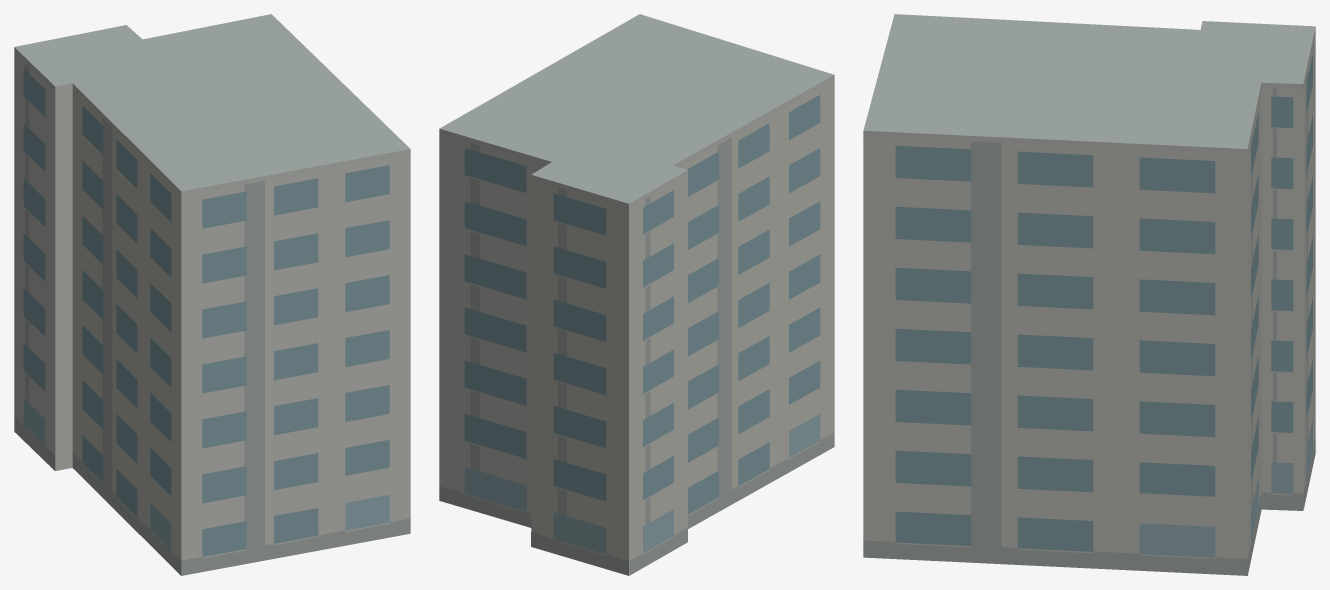
File: survey-upis-32801637.glb
3 views of the same model, side by side, from view 1: azimuth 30°, elevation 25°; view 2: azimuth 150°, elevation 25°; view 3: azimuth 270°, elevation 25° (orthographic). The views are drawn at different scales.
Parts seen in each view (by area): view 1: survey-upis-32801637.tmp; view 2: survey-upis-32801637.tmp; view 3: survey-upis-32801637.tmp.
Part boxes in pixels (left/top/right/bottom): survey-upis-32801637.tmp: left=14, top=14, right=410, bottom=575; survey-upis-32801637.tmp: left=439, top=14, right=834, bottom=575; survey-upis-32801637.tmp: left=863, top=14, right=1315, bottom=575.
Bounding box in the file's own units: 12.43 × 18.3 × 17.58.
